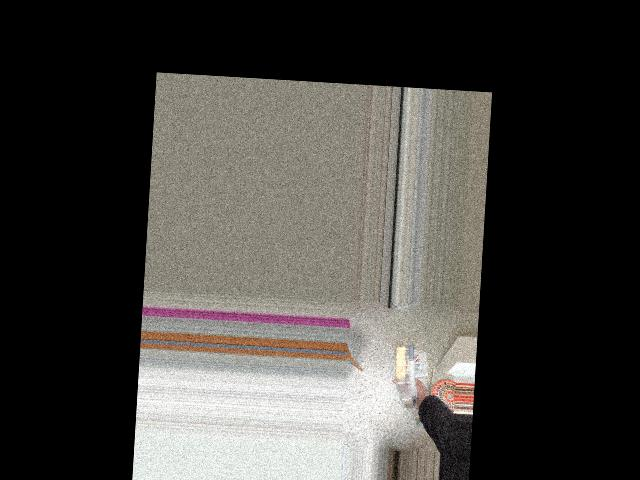cheese: (376, 341, 454, 398)
